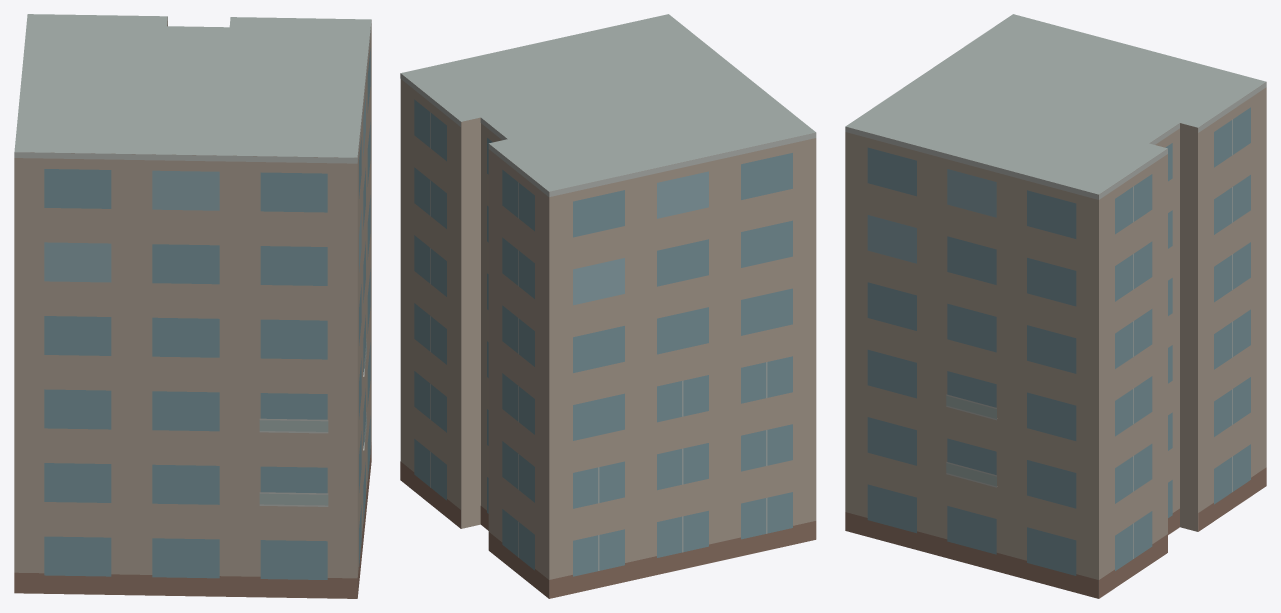
Rendered from survey-upis-32749341.glb.
3 views of the same model, side by side, from view 1: azimuth 30°, elevation 25°; view 2: azimuth 150°, elevation 25°; view 3: azimuth 270°, elevation 25° (orthographic). The views are drawn at different scales.
Visible parts, largest first — view 1: survey-upis-32749341.tmp; view 2: survey-upis-32749341.tmp; view 3: survey-upis-32749341.tmp.
Boxes of the visible parts, left/top/right/bottom form: survey-upis-32749341.tmp: left=14, top=14, right=371, bottom=598; survey-upis-32749341.tmp: left=400, top=14, right=816, bottom=598; survey-upis-32749341.tmp: left=845, top=14, right=1266, bottom=598.
Size of the model in its own units: 17.54 by 18.3 by 17.29.
